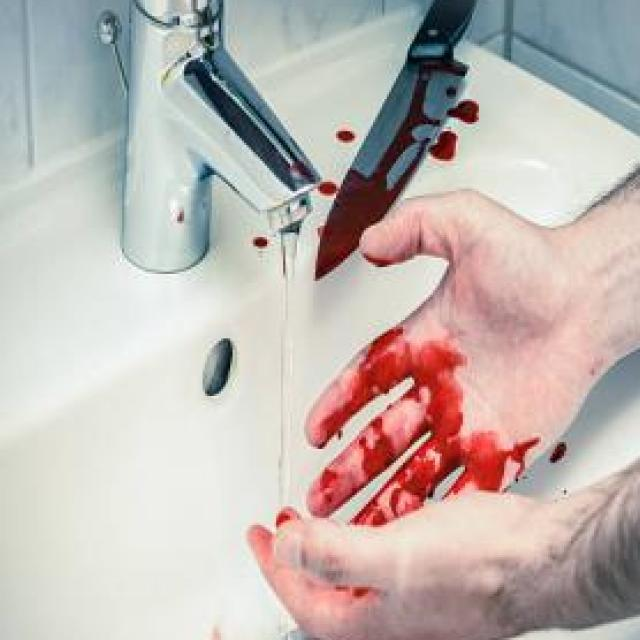knife: (313, 14, 478, 278)
